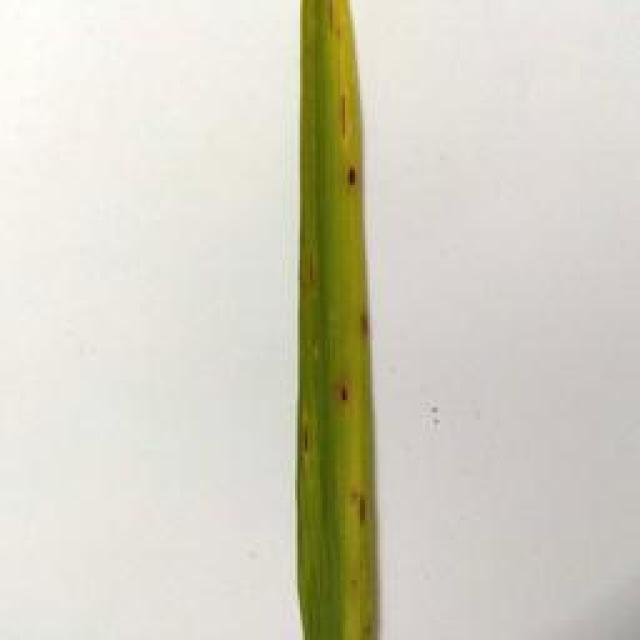Brown_Spot: (284, 412, 318, 463), (342, 489, 374, 540), (344, 152, 370, 198), (326, 379, 361, 413), (334, 96, 358, 144), (353, 605, 381, 640), (354, 311, 376, 343)
